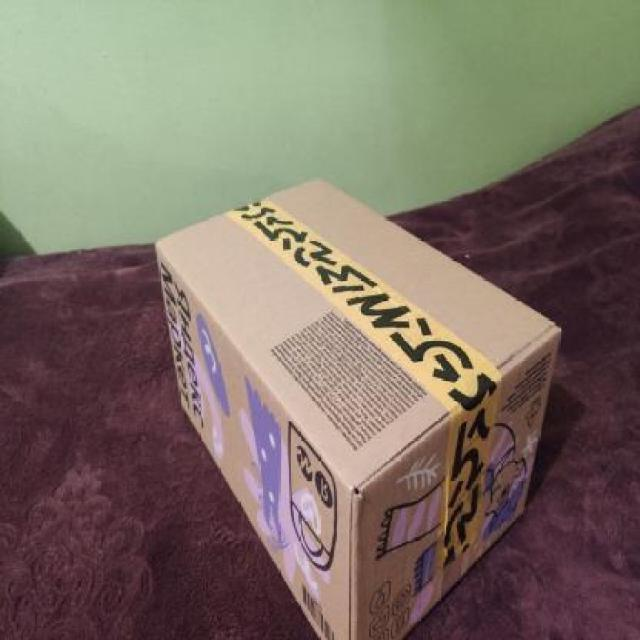box: (149, 167, 564, 640)
